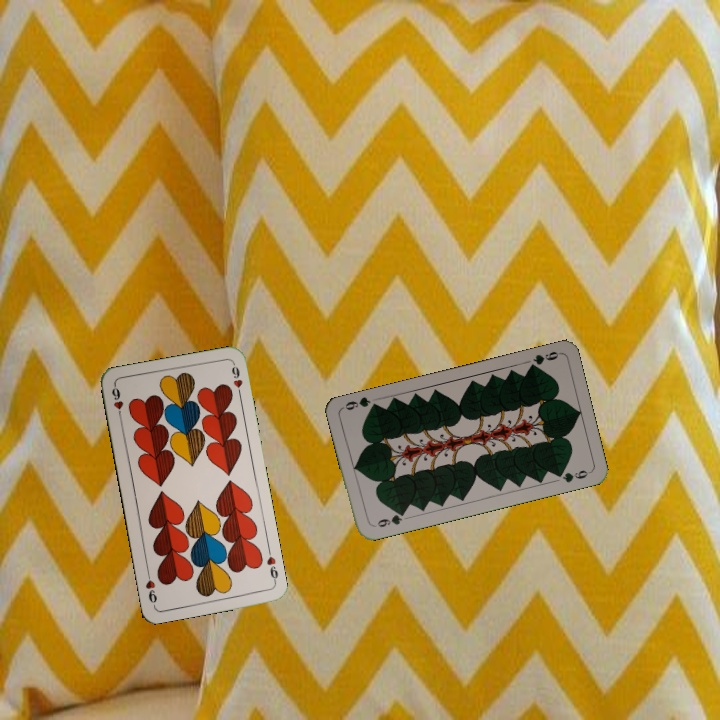G9: (524, 347, 562, 372), (369, 508, 408, 530)
H9: (263, 545, 281, 586), (108, 382, 126, 422)
